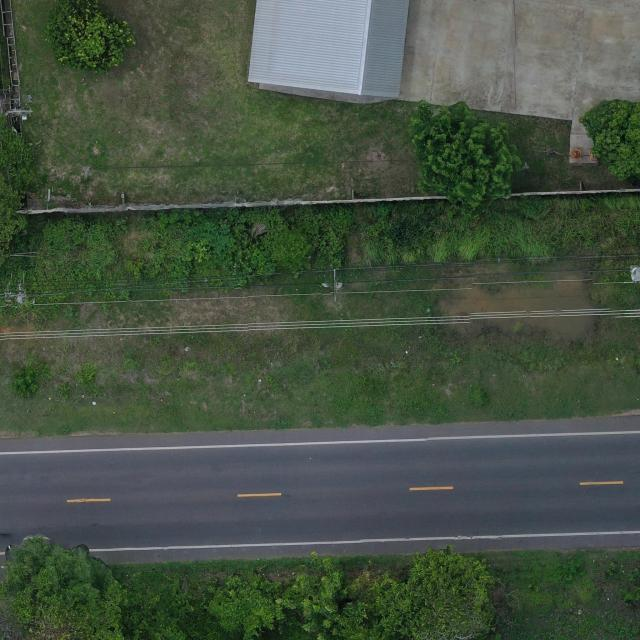Tree: (406, 98, 527, 212), (3, 533, 128, 640), (378, 542, 503, 640), (283, 549, 395, 640), (45, 0, 139, 75), (205, 570, 284, 640), (577, 98, 640, 180)
